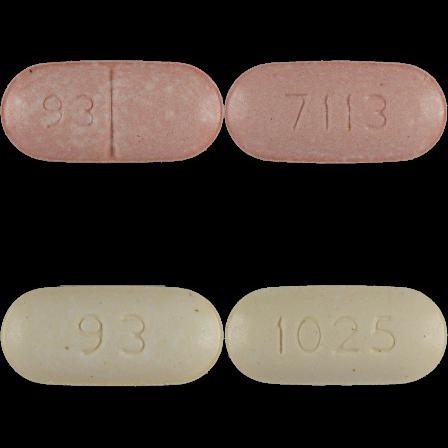21695-175: (0, 0, 224, 224)
